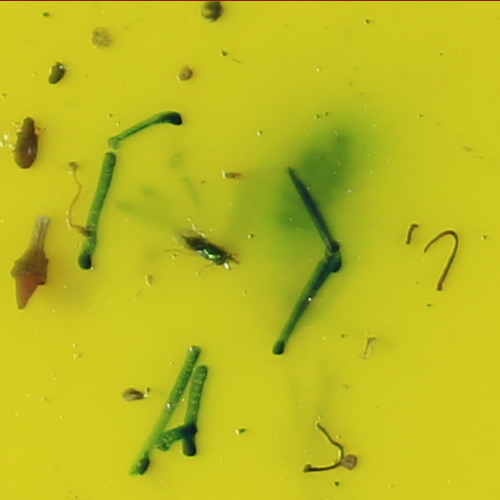wasp: (176, 232, 237, 267)
